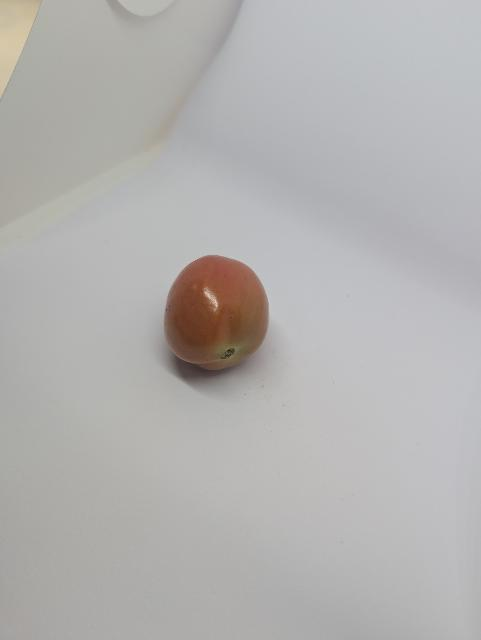turning: (161, 251, 282, 381)
